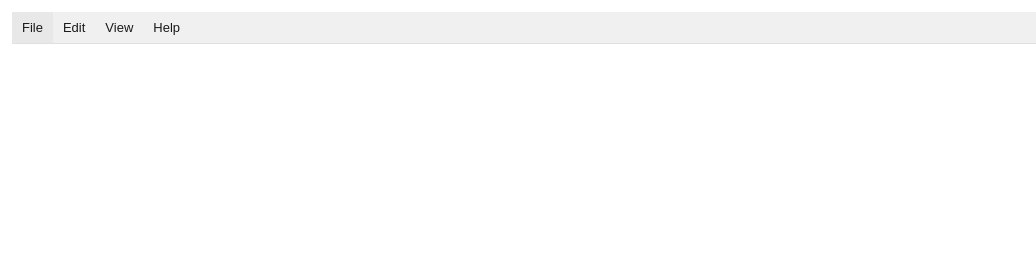
Test: Toolbar › menu buttons › switches dropdown when different button is clicked
Click the button "File" at (32, 28), box [12, 12, 53, 43]
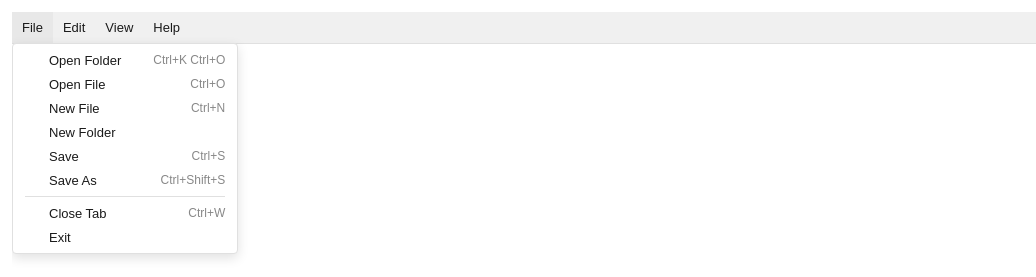
Now the text "Open Folder" is shown, box [49, 52, 121, 68]
Click the button "Edit" at (74, 28), box [53, 12, 95, 43]
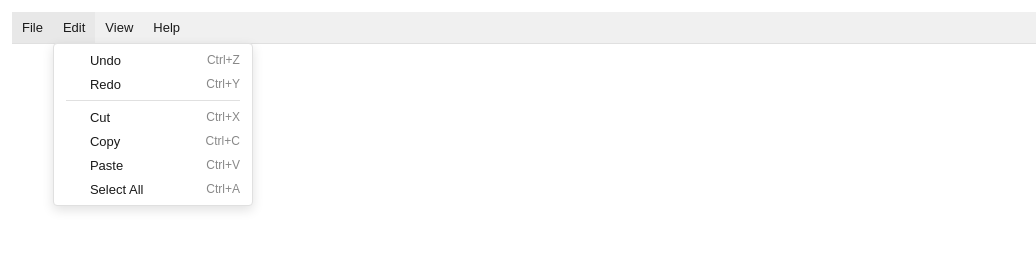
Now the text "Undo" is shown, box [90, 52, 121, 68]
